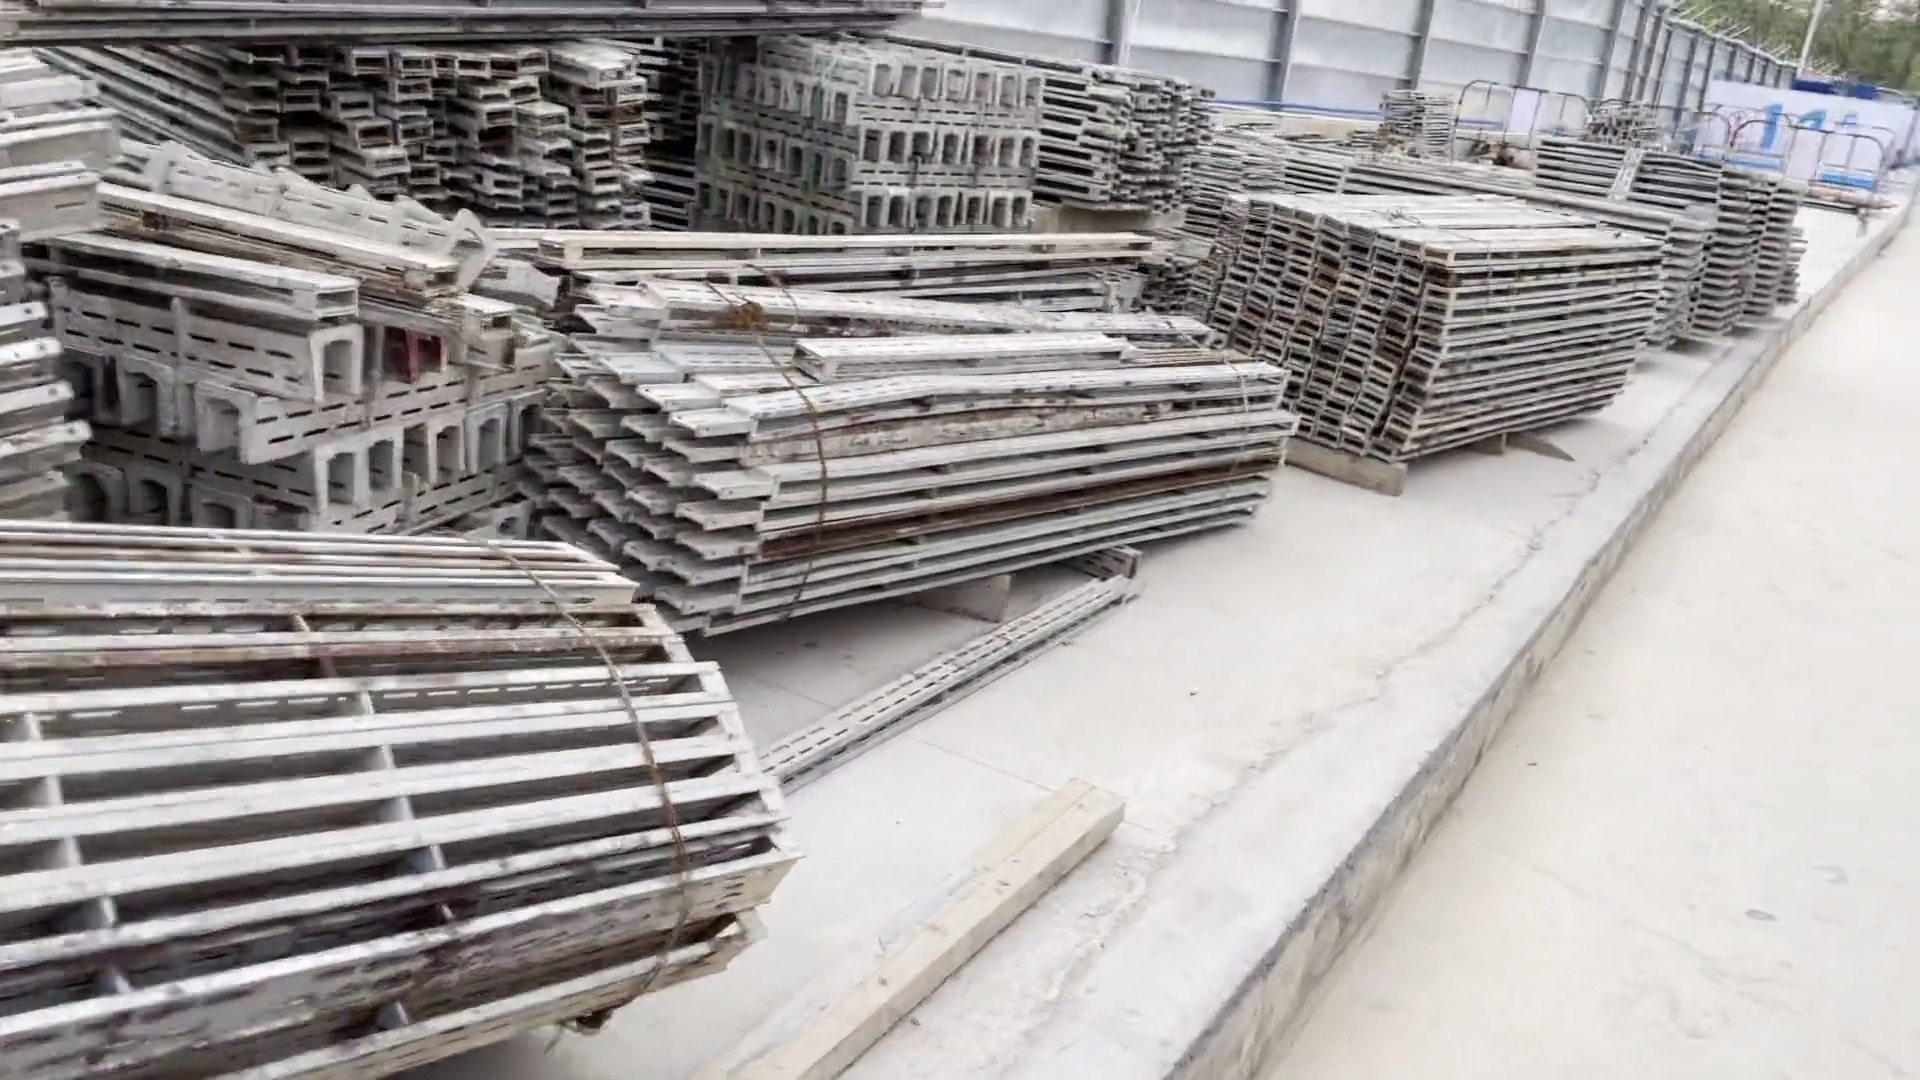fence: (1437, 76, 1880, 241)
